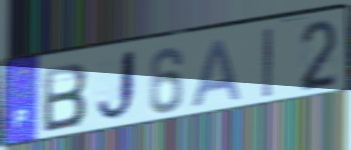2: (298, 18, 339, 95)
6: (148, 44, 185, 116)
A: (189, 37, 244, 110)
B: (41, 60, 90, 135)
I: (262, 26, 275, 100)
J: (93, 47, 138, 126)
